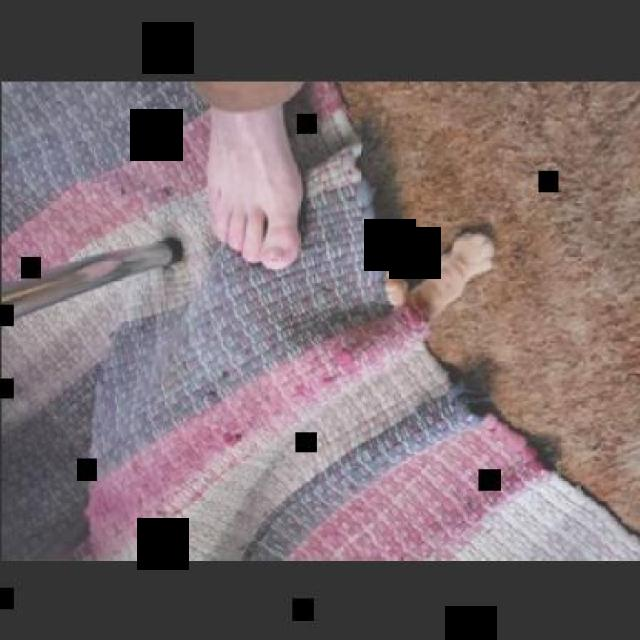unauthorized: (340, 78, 638, 557)
